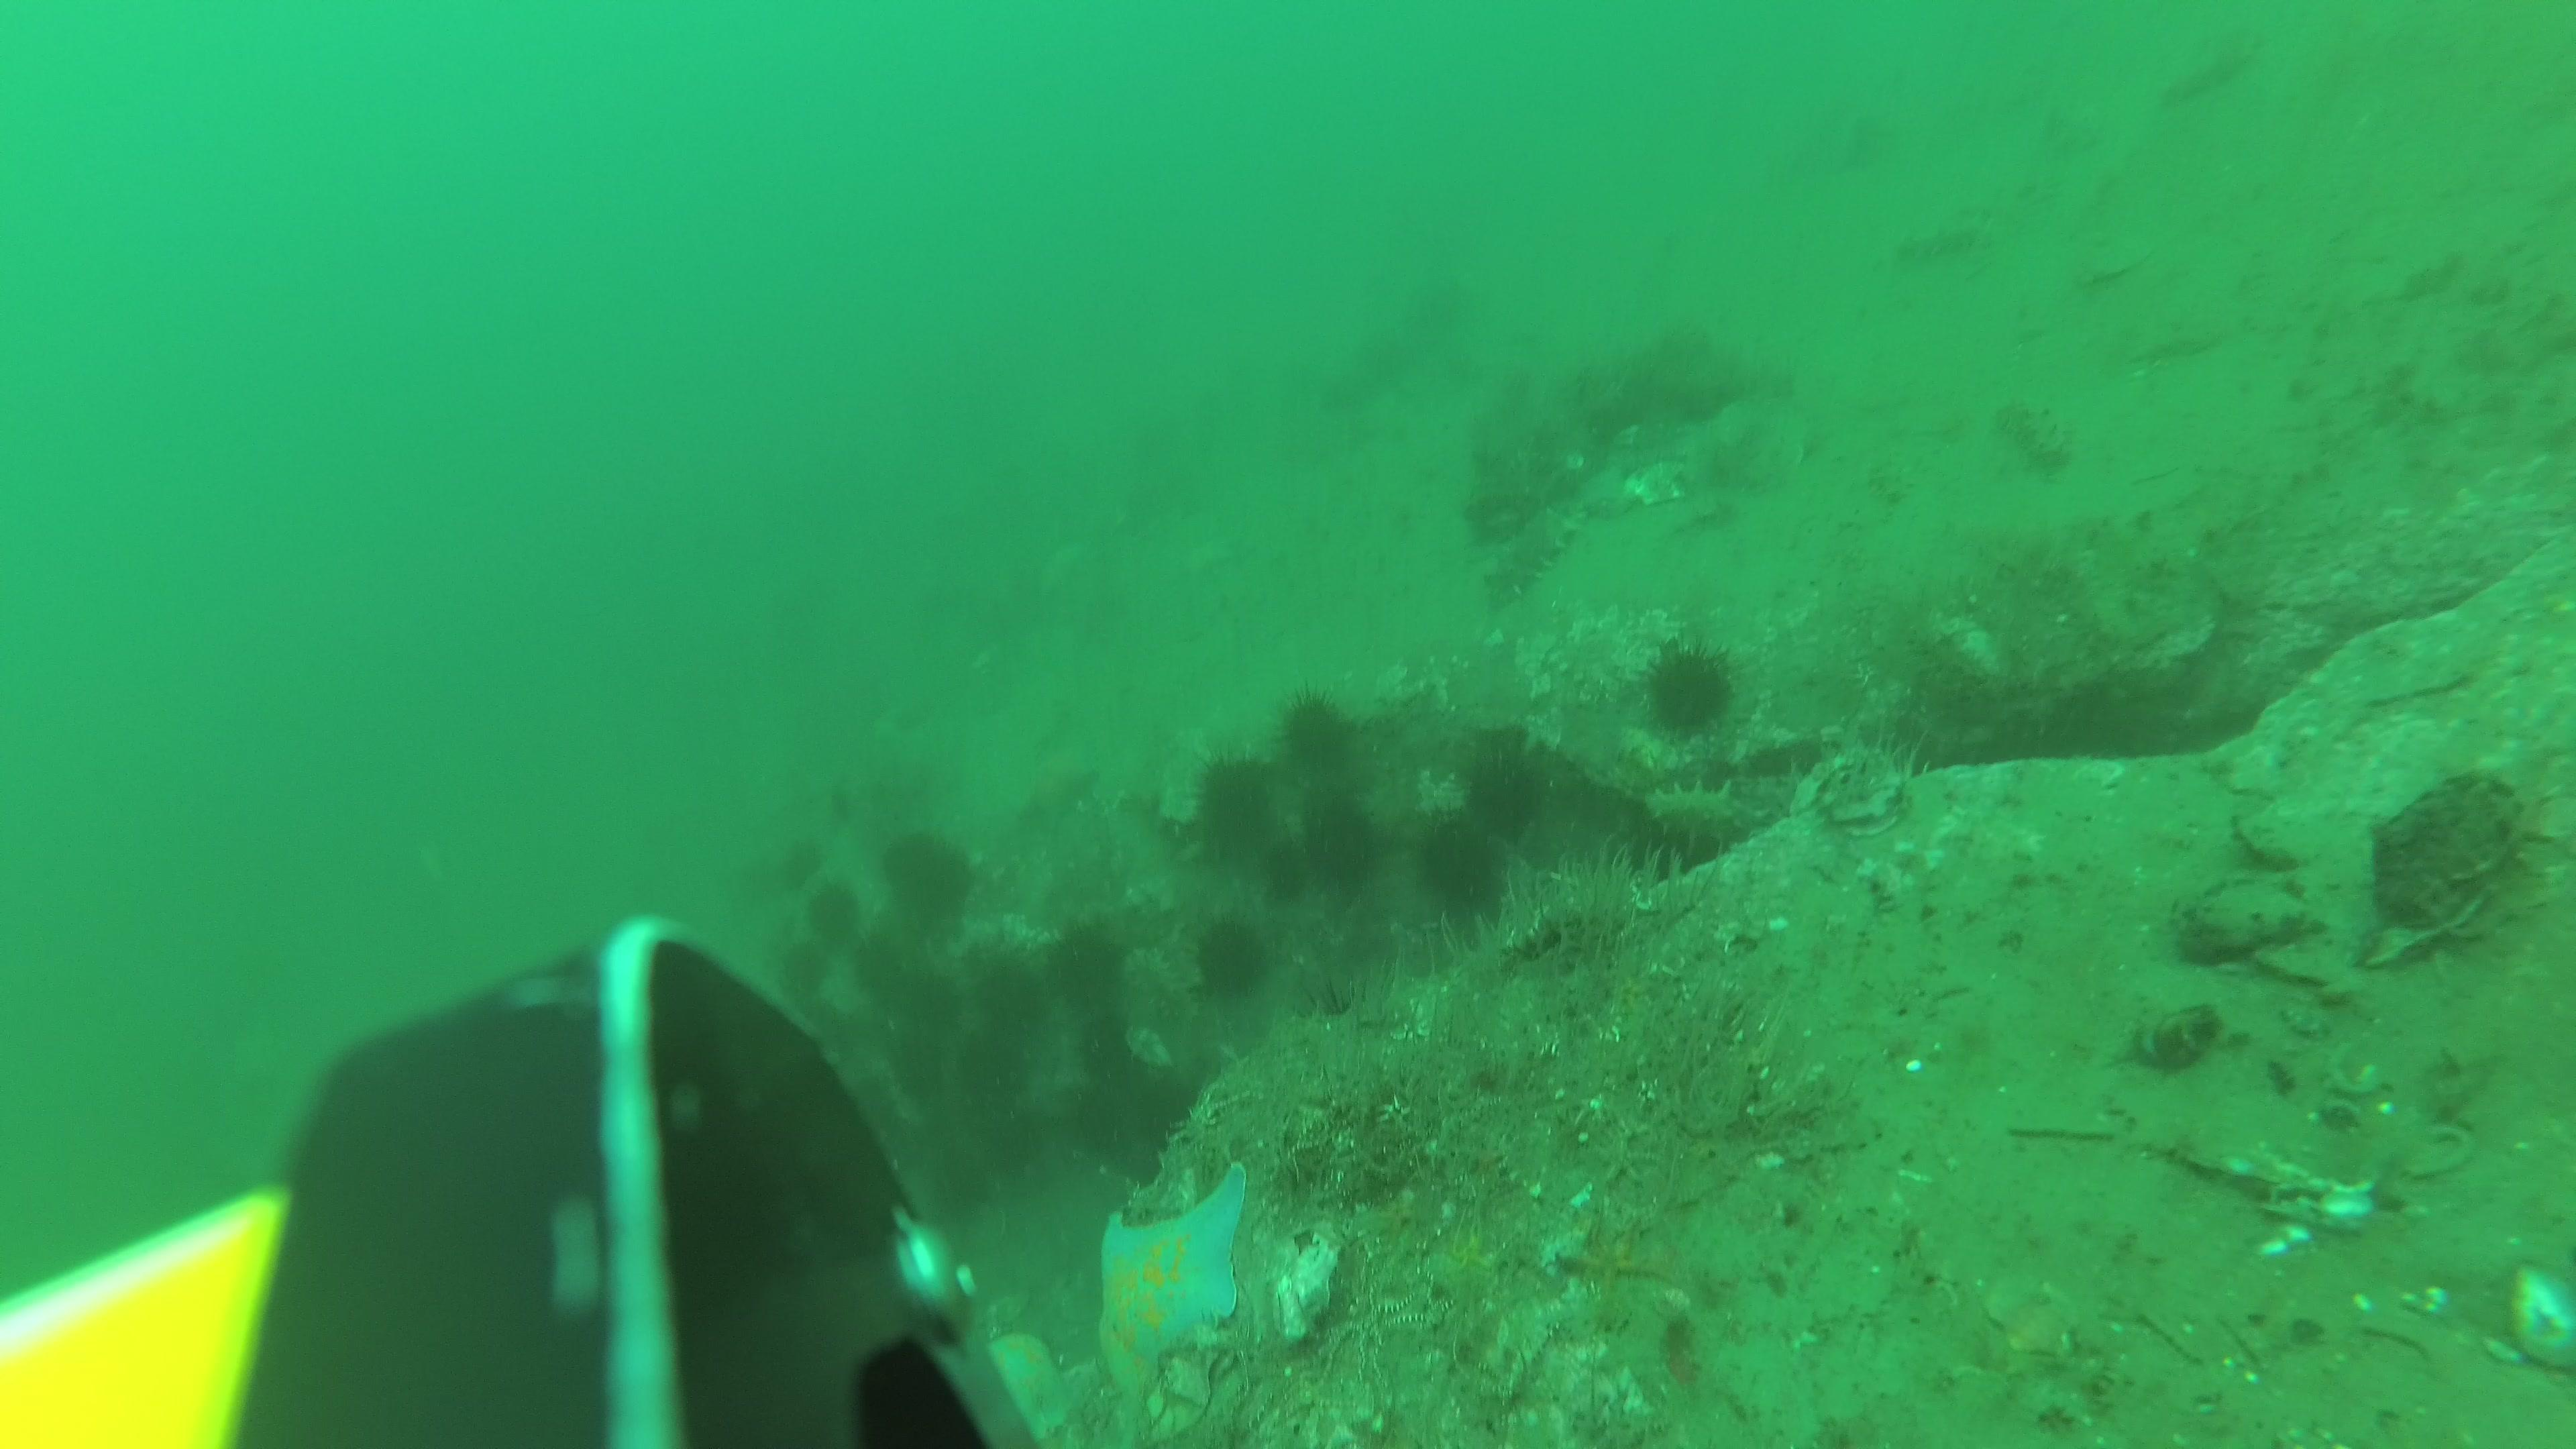echinus: (1185, 752, 1279, 860), (1644, 635, 1737, 738), (1417, 809, 1507, 913), (1307, 794, 1380, 904), (1299, 978, 1382, 1065), (1279, 694, 1355, 786), (1054, 932, 1132, 1017), (1468, 752, 1546, 833), (968, 966, 1040, 1044), (1205, 920, 1270, 1000), (957, 1040, 1024, 1115), (1108, 1116, 1168, 1189), (1083, 1024, 1145, 1090), (1136, 1074, 1198, 1136), (989, 1106, 1049, 1169), (885, 1039, 943, 1102), (916, 860, 975, 922), (909, 973, 964, 1035), (777, 945, 826, 1008), (849, 936, 895, 1001), (888, 833, 939, 892), (809, 881, 855, 945), (1074, 1086, 1118, 1148), (780, 846, 828, 897), (1272, 851, 1318, 904), (819, 1007, 863, 1060)
holothurian: (1481, 499, 1589, 610), (1647, 780, 1776, 851), (1132, 945, 1203, 1028), (2001, 395, 2075, 465), (1897, 209, 2003, 255), (1867, 456, 1911, 506)
scallop: (1982, 1269, 2077, 1359), (1622, 455, 1697, 508), (971, 1290, 1028, 1345), (959, 1205, 1010, 1265)
starfish: (1095, 1161, 1247, 1412), (1562, 1214, 1665, 1320), (978, 1332, 1070, 1449), (1449, 1224, 1500, 1276)
